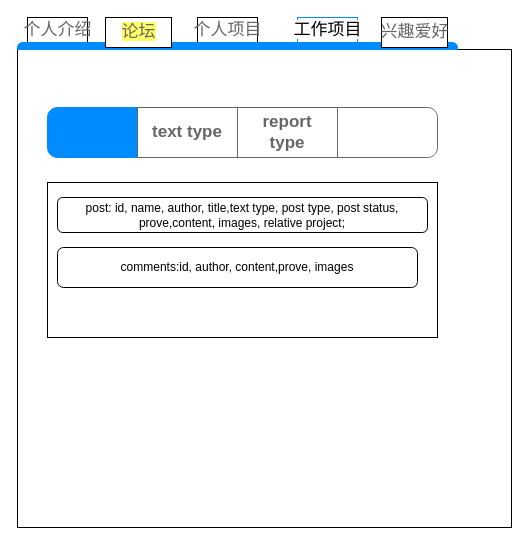
Image size: 529x545. Some labels were removed from this diagram. Here are the shapes that lost their labels. From the top down, the box of each, then its label:
(46, 106, 138, 158): name
(336, 106, 438, 158): author
